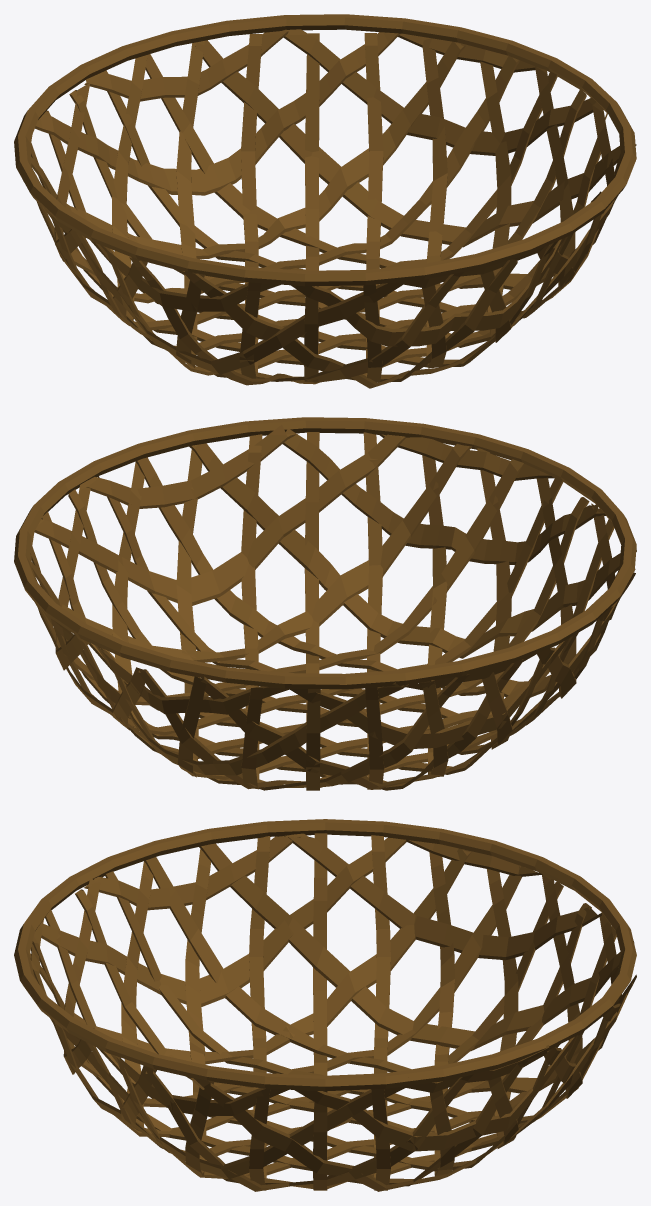
Rendered from emptybasket 1.fbx.
The picture shows the model from 3 angles, top to bottom: view 1: azimuth 30°, elevation 25°; view 2: azimuth 150°, elevation 25°; view 3: azimuth 270°, elevation 25°; orthographic projection.
Parts seen in each view (by area): view 1: トーラス; view 2: トーラス; view 3: トーラス.
Part boxes in pixels (x1,y1,x2,y2): トーラス: (14, 14, 636, 388); トーラス: (14, 417, 636, 790); トーラス: (14, 819, 636, 1191).
Bounding box in the file's own units: 2002 × 2002 × 615.
